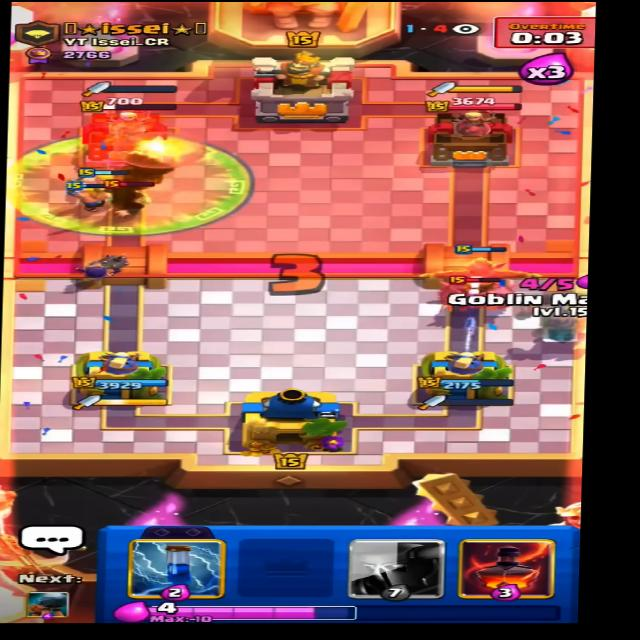knight: (97, 175, 166, 223)
pekka: (434, 275, 524, 314)
